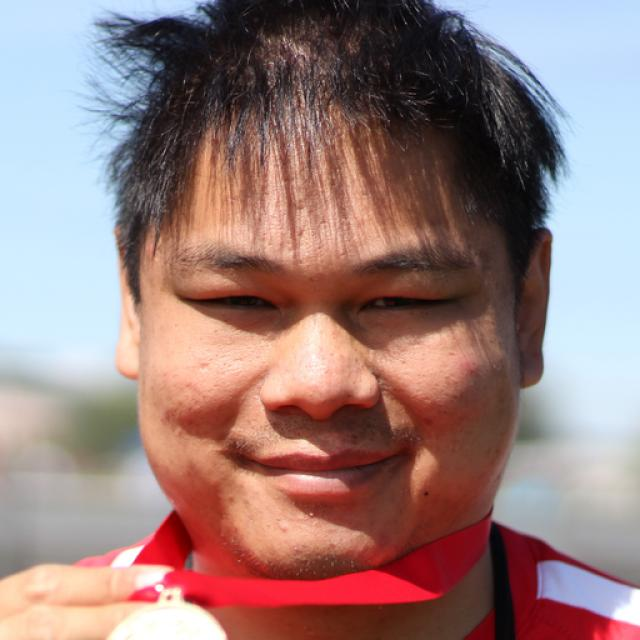Acne: (272, 518, 290, 539), (302, 508, 322, 526), (290, 543, 303, 557)
